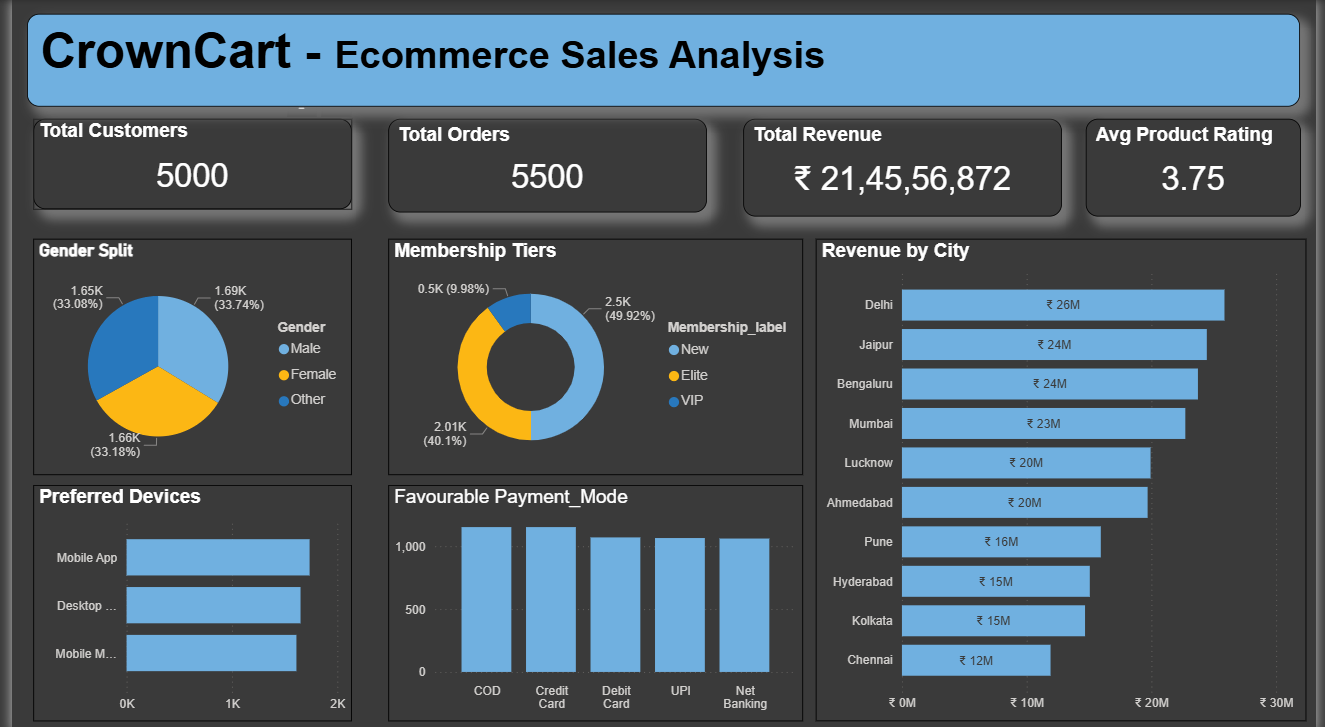

The page's visual inventory and layout, read from the dashboard file:
{"tool":"powerbi","page":{"name":"Overview","canvas":[1280,720],"ordinal":1},"visuals":[{"type":"card","title":"Total Customers","fields":{"Values":["Count(Customer_Catalogue.Customer_ID)"]},"box":[20.6,116.6,312.9,89.2],"z":0},{"type":"pieChart","title":"Gender Split","fields":{"Category":["Customer_Catalogue.Gender"],"Y":["Count(Customer_Catalogue.Customer_ID)"]},"box":[20.6,234.6,312.9,231.9],"z":1000},{"type":"donutChart","title":"Membership Tiers","fields":{"Category":["Customer_Catalogue.Membership_label"],"Y":["Count(Customer_Catalogue.Customer_ID)"]},"box":[369.1,234.6,407.5,231.9],"z":2000},{"type":"clusteredBarChart","title":"Preferred Devices","fields":{"Category":["Customer_Catalogue.Preferred_Device"],"Y":["Count(Customer_Catalogue.Customer_ID)"]},"box":[20.6,476.2,312.9,231.9],"z":3000},{"type":"card","title":"Total Orders","fields":{"Values":["Count(Orders_Catalogue.Order_ID)"]},"box":[369.1,116.6,312.9,91.9],"z":4000},{"type":"columnChart","title":"Favourable Payment_Mode","fields":{"Category":["Orders_Catalogue.Payment_Mode"],"Y":["Count(Orders_Catalogue.Order_ID)"]},"box":[369.1,476.2,407.5,231.9],"z":5000},{"type":"clusteredBarChart","title":"Revenue by City","fields":{"Category":["Customer_Catalogue.City"],"Y":["Sum(Orders_Catalogue.Total_Amount)"]},"box":[789,234.6,481.6,473.4],"z":6000},{"type":"card","title":"Total Revenue","fields":{"Values":["Sum(Orders_Catalogue.Total_Amount)"]},"box":[717.7,116.6,312.9,96.1],"z":7000},{"type":"textbox","box":[15.2,13.8,1249.9,91.3],"z":8000},{"type":"card","title":"Avg Product Rating","fields":{"Values":["Avg(Product_Catalogue.Product_Rating)"]},"box":[1054.5,116.4,211.2,96.3],"z":9000}]}

Visuals, with their boxes in screenshot pixels (x1, y1, x2, y2), scaled from the page's 1280x720 canvas onto the 1325x727 screenshot:
"Total Customers" card: {"x1": 21, "y1": 118, "x2": 345, "y2": 208}
"Gender Split" pieChart: {"x1": 21, "y1": 237, "x2": 345, "y2": 471}
"Membership Tiers" donutChart: {"x1": 382, "y1": 237, "x2": 804, "y2": 471}
"Preferred Devices" clusteredBarChart: {"x1": 21, "y1": 481, "x2": 345, "y2": 715}
"Total Orders" card: {"x1": 382, "y1": 118, "x2": 706, "y2": 211}
"Favourable Payment_Mode" columnChart: {"x1": 382, "y1": 481, "x2": 804, "y2": 715}
"Revenue by City" clusteredBarChart: {"x1": 817, "y1": 237, "x2": 1315, "y2": 715}
"Total Revenue" card: {"x1": 743, "y1": 118, "x2": 1067, "y2": 215}
textbox: {"x1": 16, "y1": 14, "x2": 1310, "y2": 106}
"Avg Product Rating" card: {"x1": 1092, "y1": 118, "x2": 1310, "y2": 215}
